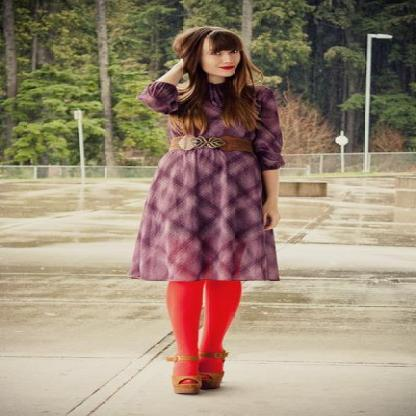dress: (129, 82, 284, 284)
shoe: (172, 366, 222, 396)
